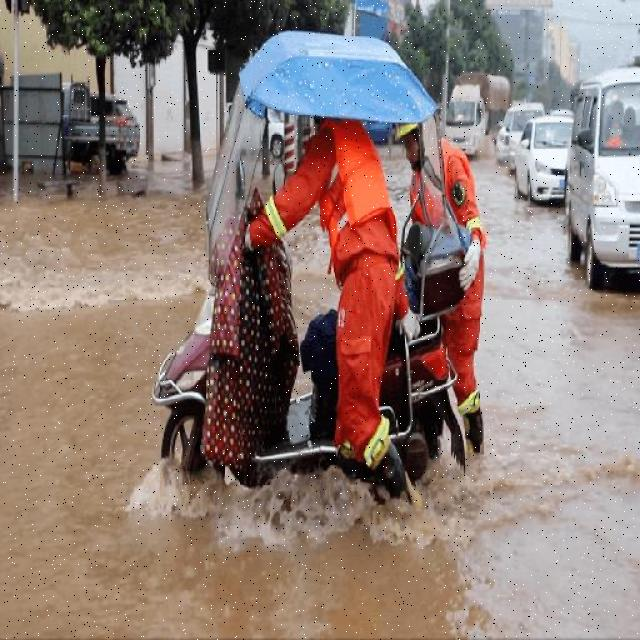rescuer: (303, 108, 399, 510), (392, 107, 492, 455)
